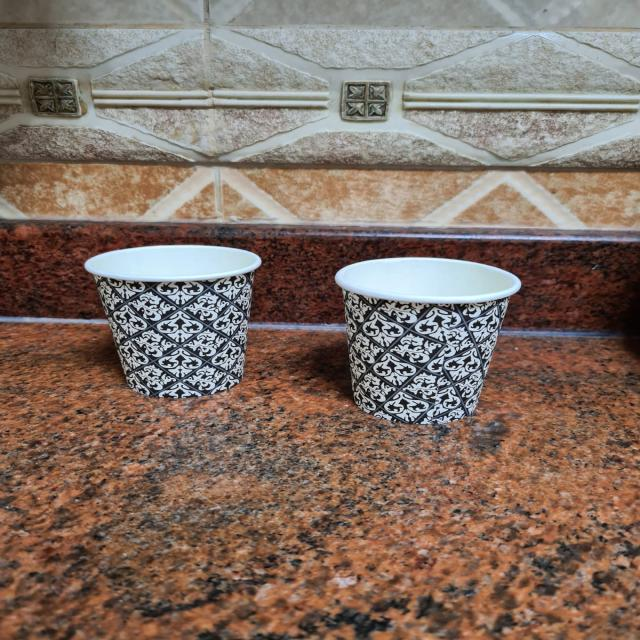cups: (340, 256, 525, 422), (102, 242, 275, 401)
